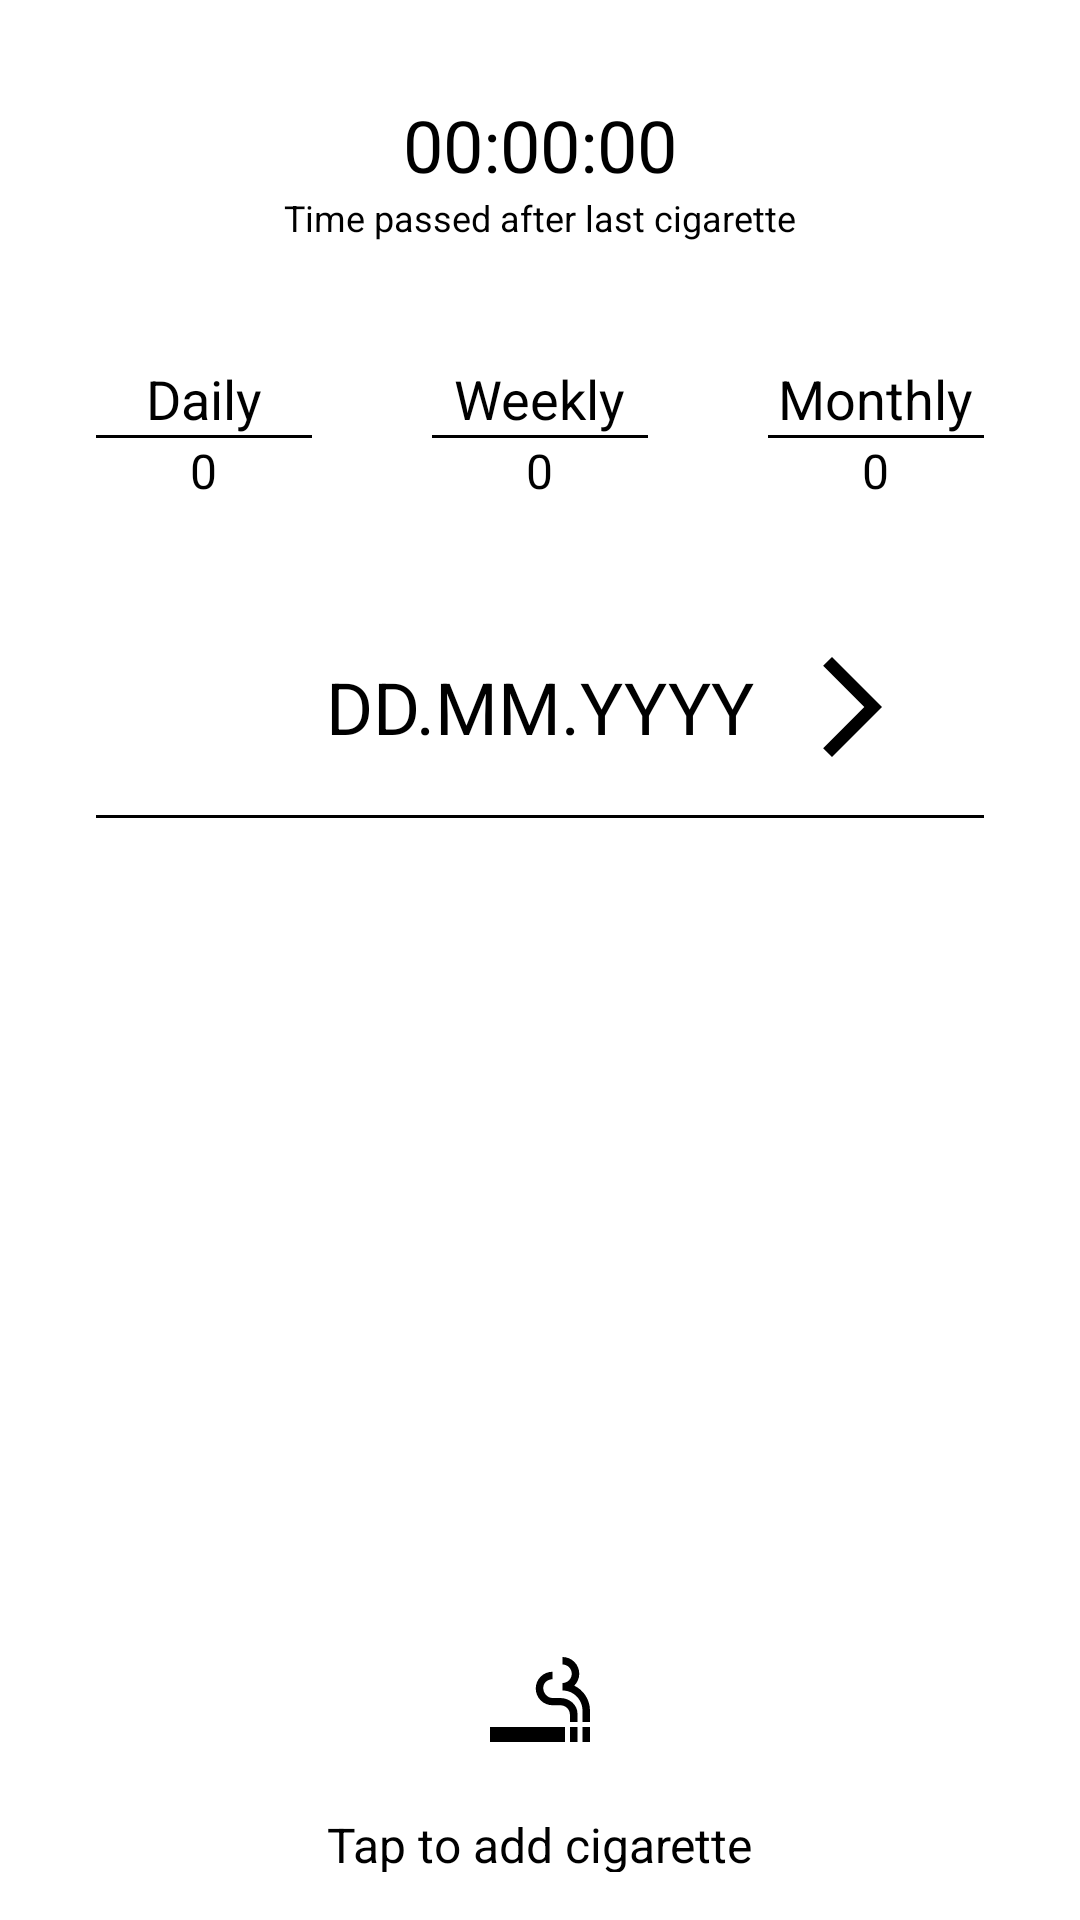

Named icons in this screenshot (1080px×1920px) and their centers, point (x, y):
Next day: point (852, 707)
